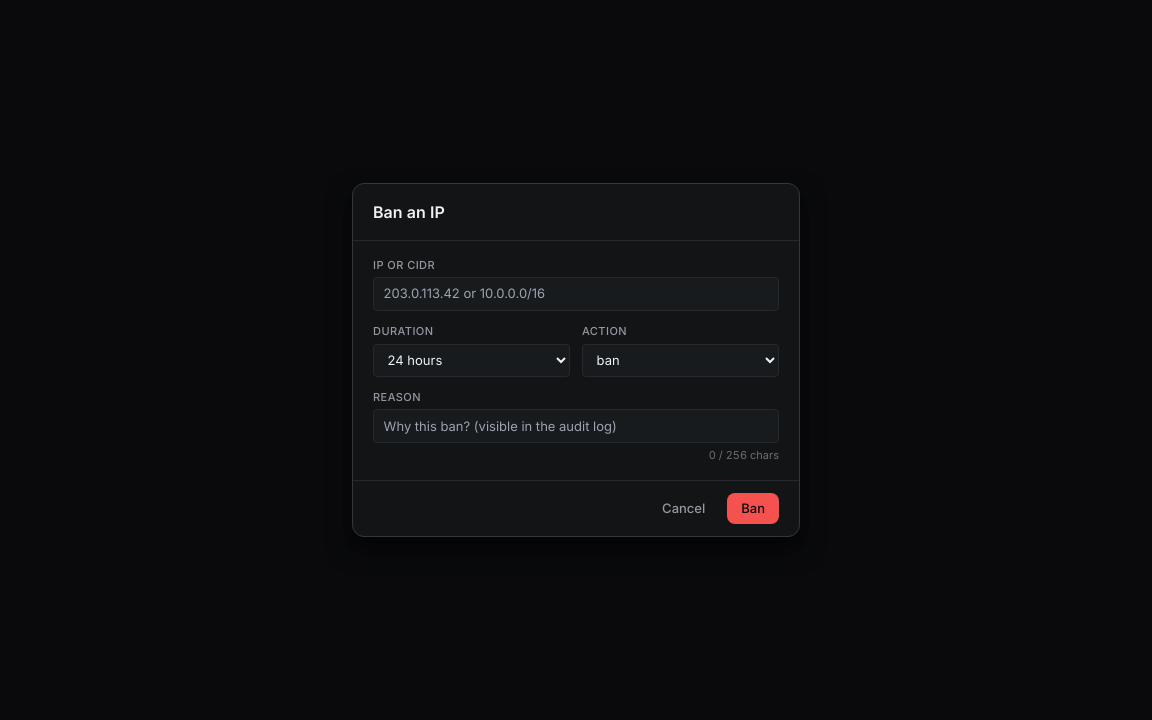
Test: BanIPModal — client validation › shows inline error when reason is empty
Type "203.0.113.42" into the field with test id "ban-input-value". click: (576,294)
box: [373,277,779,311]
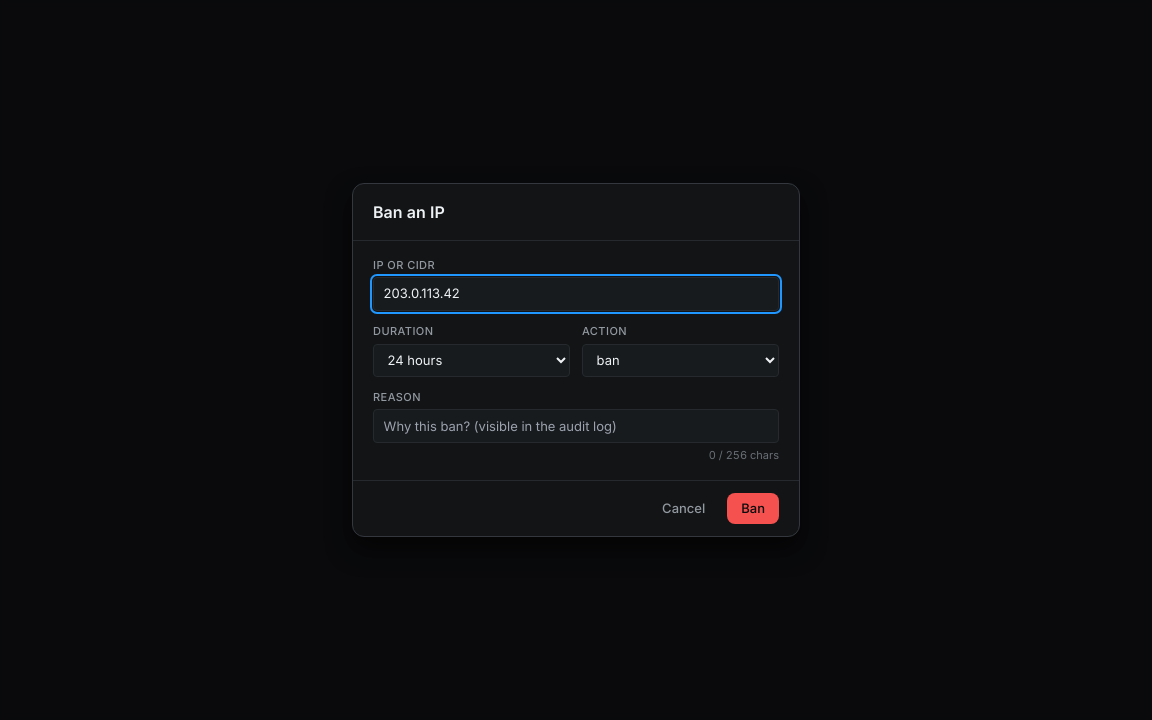
Click the button with test id "ban-submit". click: (753,509)
box: [727,493,779,524]
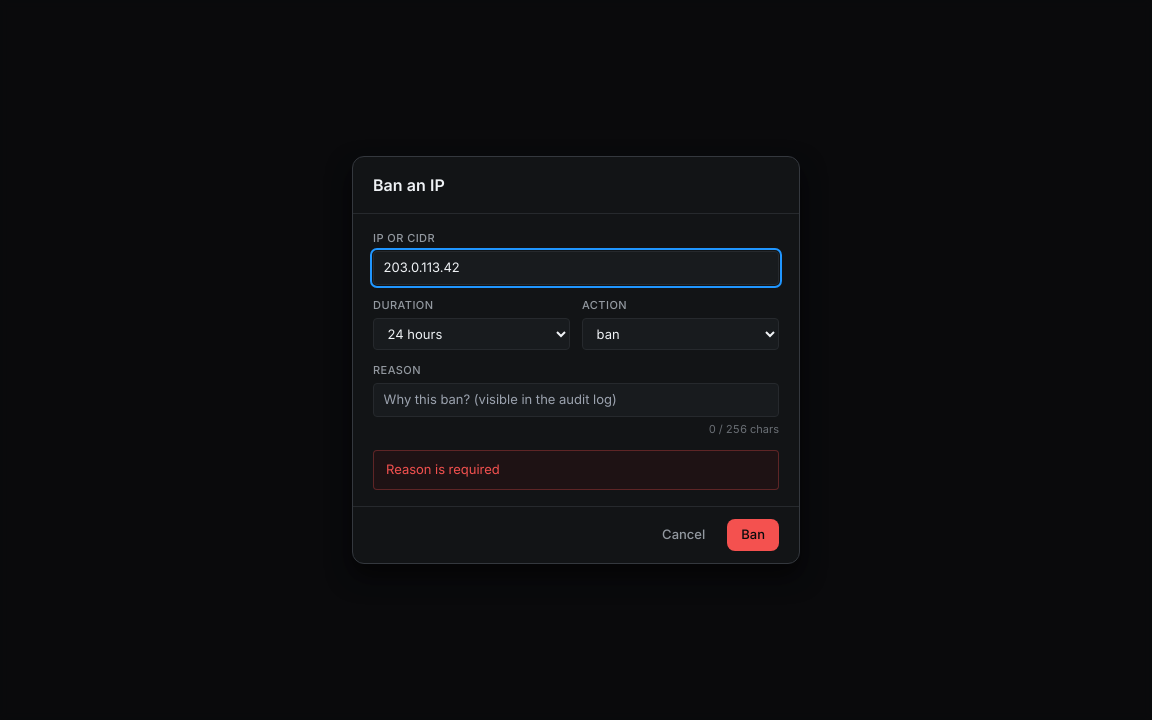
Check: the message with test id "ban-error" reads "Reason is required", box [386,461,500,477]
